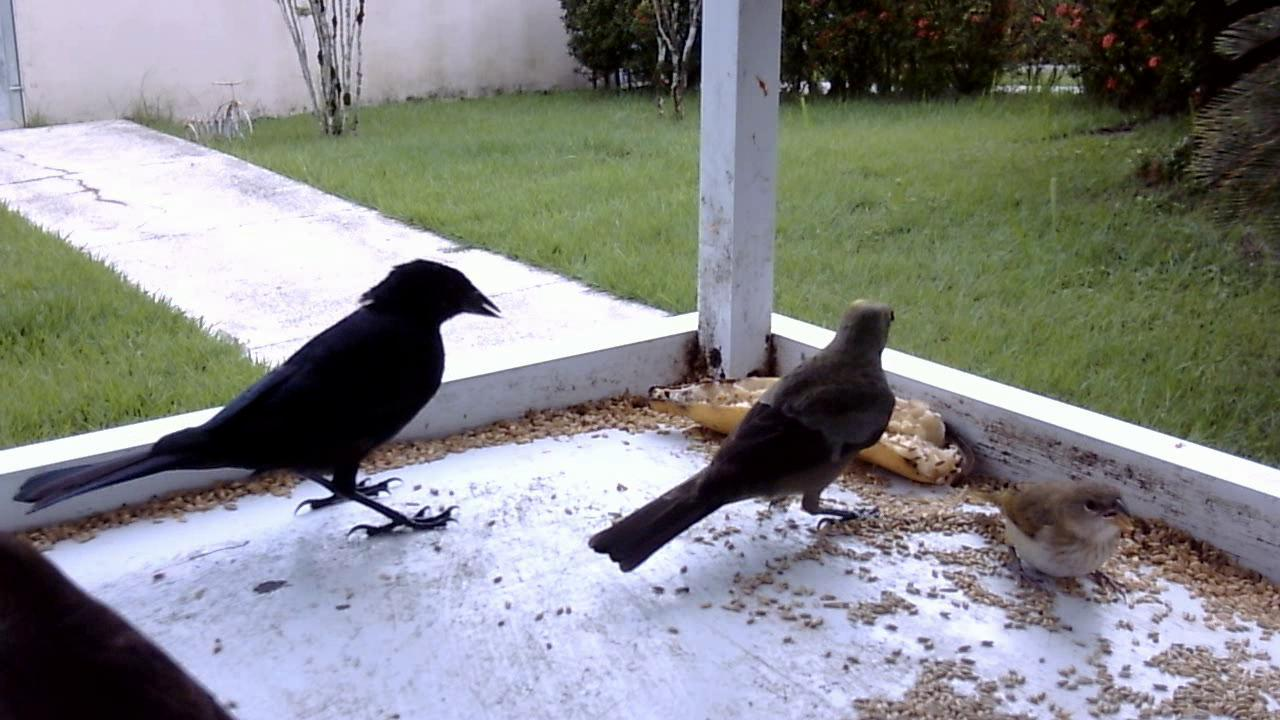canario_do_amazonas: (956, 471, 1142, 603)
chupim: (12, 234, 518, 573)
sanhaco_do_coqueiro: (586, 297, 896, 582)
